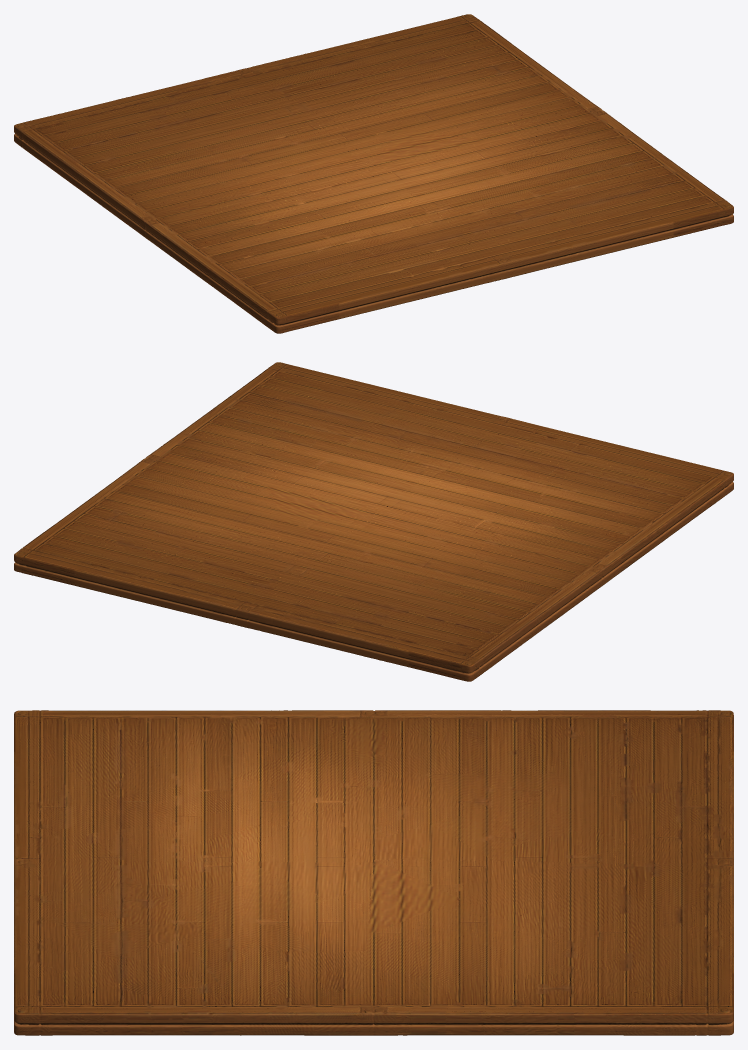
File: Meshy_Floor.glb
3 views of the same model, one above another, from view 1: azimuth 30°, elevation 25°; view 2: azimuth 150°, elevation 25°; view 3: azimuth 270°, elevation 25° (orthographic). The views are drawn at different scales.
Visible parts, largest first — view 1: Mesh_0.001; view 2: Mesh_0.001; view 3: Mesh_0.001.
Part boxes in pixels (x1,y1,x2,y2): Mesh_0.001: (14, 14, 733, 333); Mesh_0.001: (14, 362, 733, 681); Mesh_0.001: (14, 710, 733, 1035).
Bounding box in the file's own units: 139 × 5 × 139.
1 material, 1 textured.
